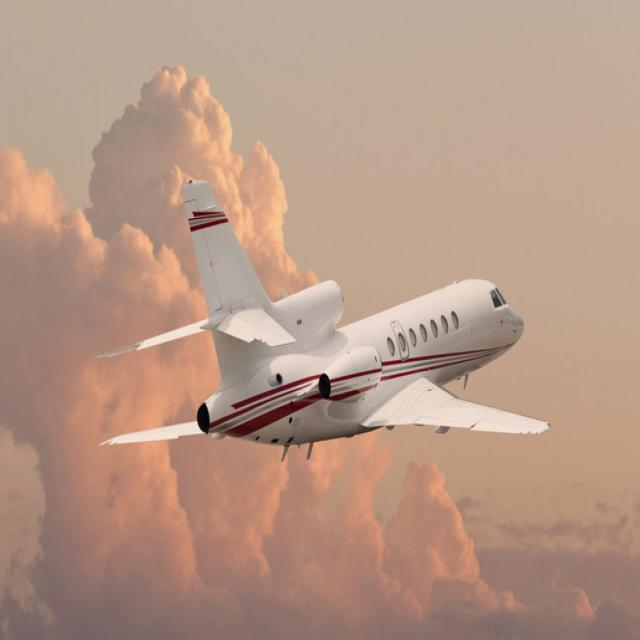jet: (68, 126, 611, 508)
